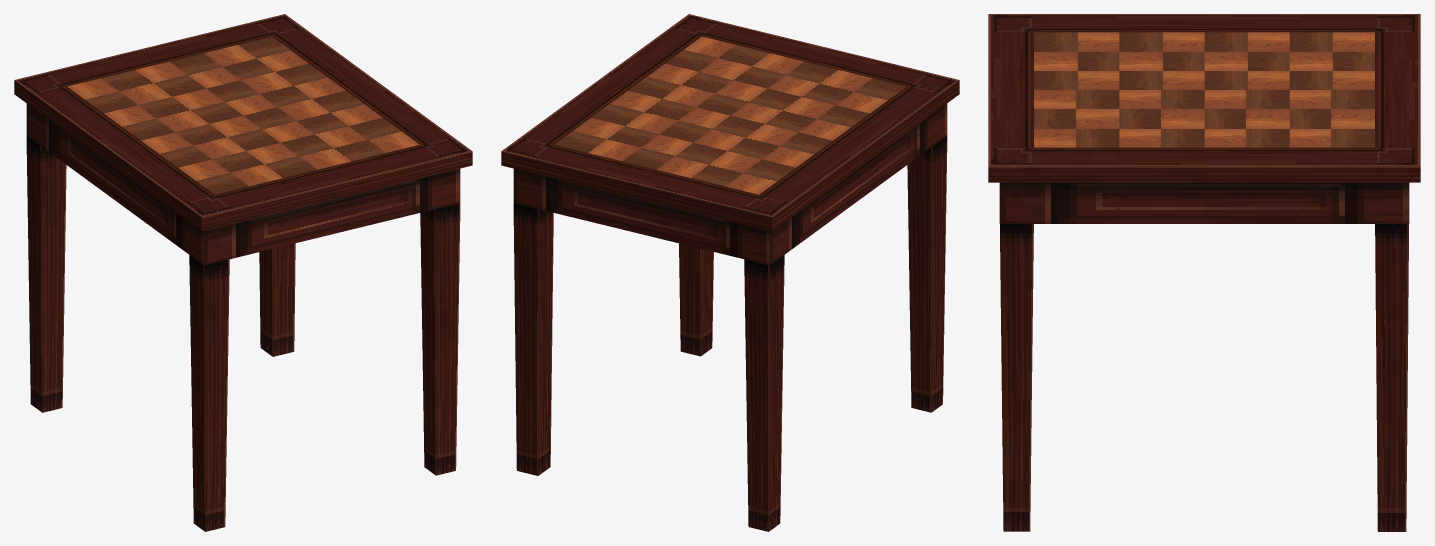
File: endtable_wood.fbx
3 views of the same model, side by side, from view 1: azimuth 30°, elevation 25°; view 2: azimuth 150°, elevation 25°; view 3: azimuth 270°, elevation 25° (orthographic). The views are drawn at different scales.
Visible parts, largest first — view 1: mesh_0; view 2: mesh_0; view 3: mesh_0.
Boxes of the visible parts, x1=… form: mesh_0: x1=14, y1=14, x2=472, y2=531; mesh_0: x1=501, y1=14, x2=959, y2=531; mesh_0: x1=988, y1=14, x2=1420, y2=531.
Size of the model in its own units: 52.8 by 60 by 63.36.
Materials: 1 (1 with a texture image).
